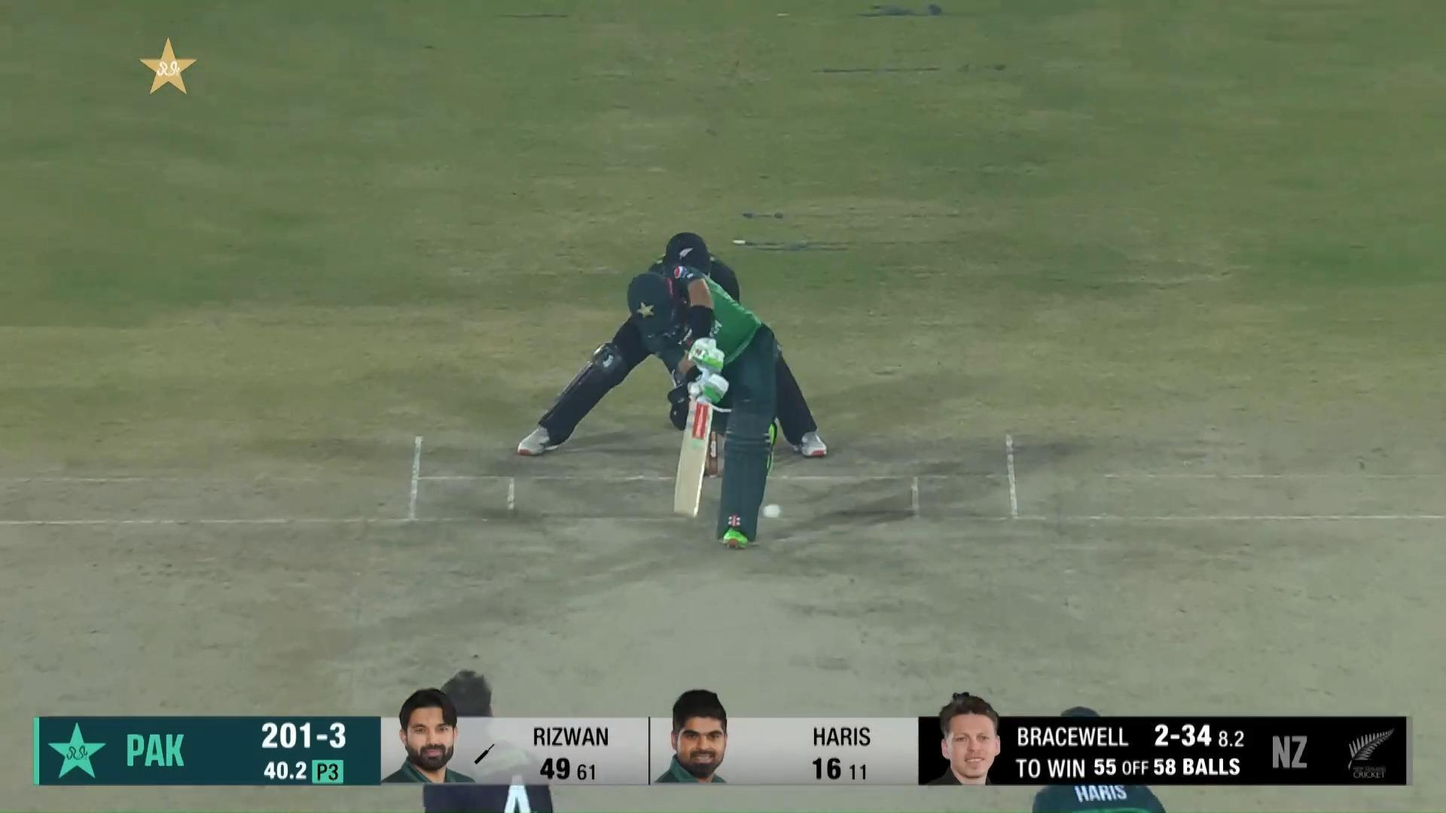BM 1: (627, 263, 777, 549)
BO: (416, 668, 557, 813)
